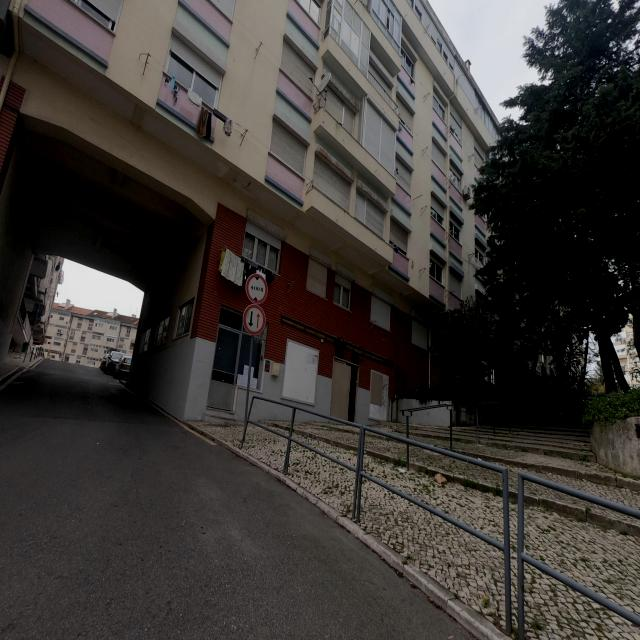car: (104, 350, 126, 376), (114, 354, 133, 381), (99, 353, 111, 372)
